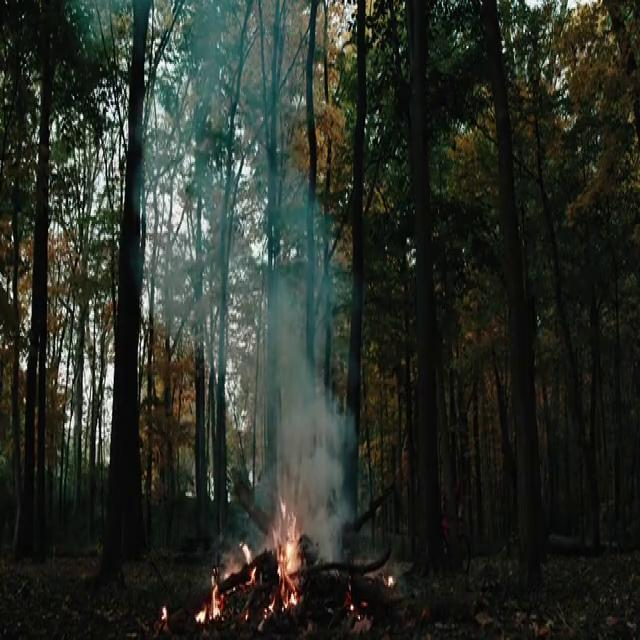smoke: (261, 282, 345, 518)
